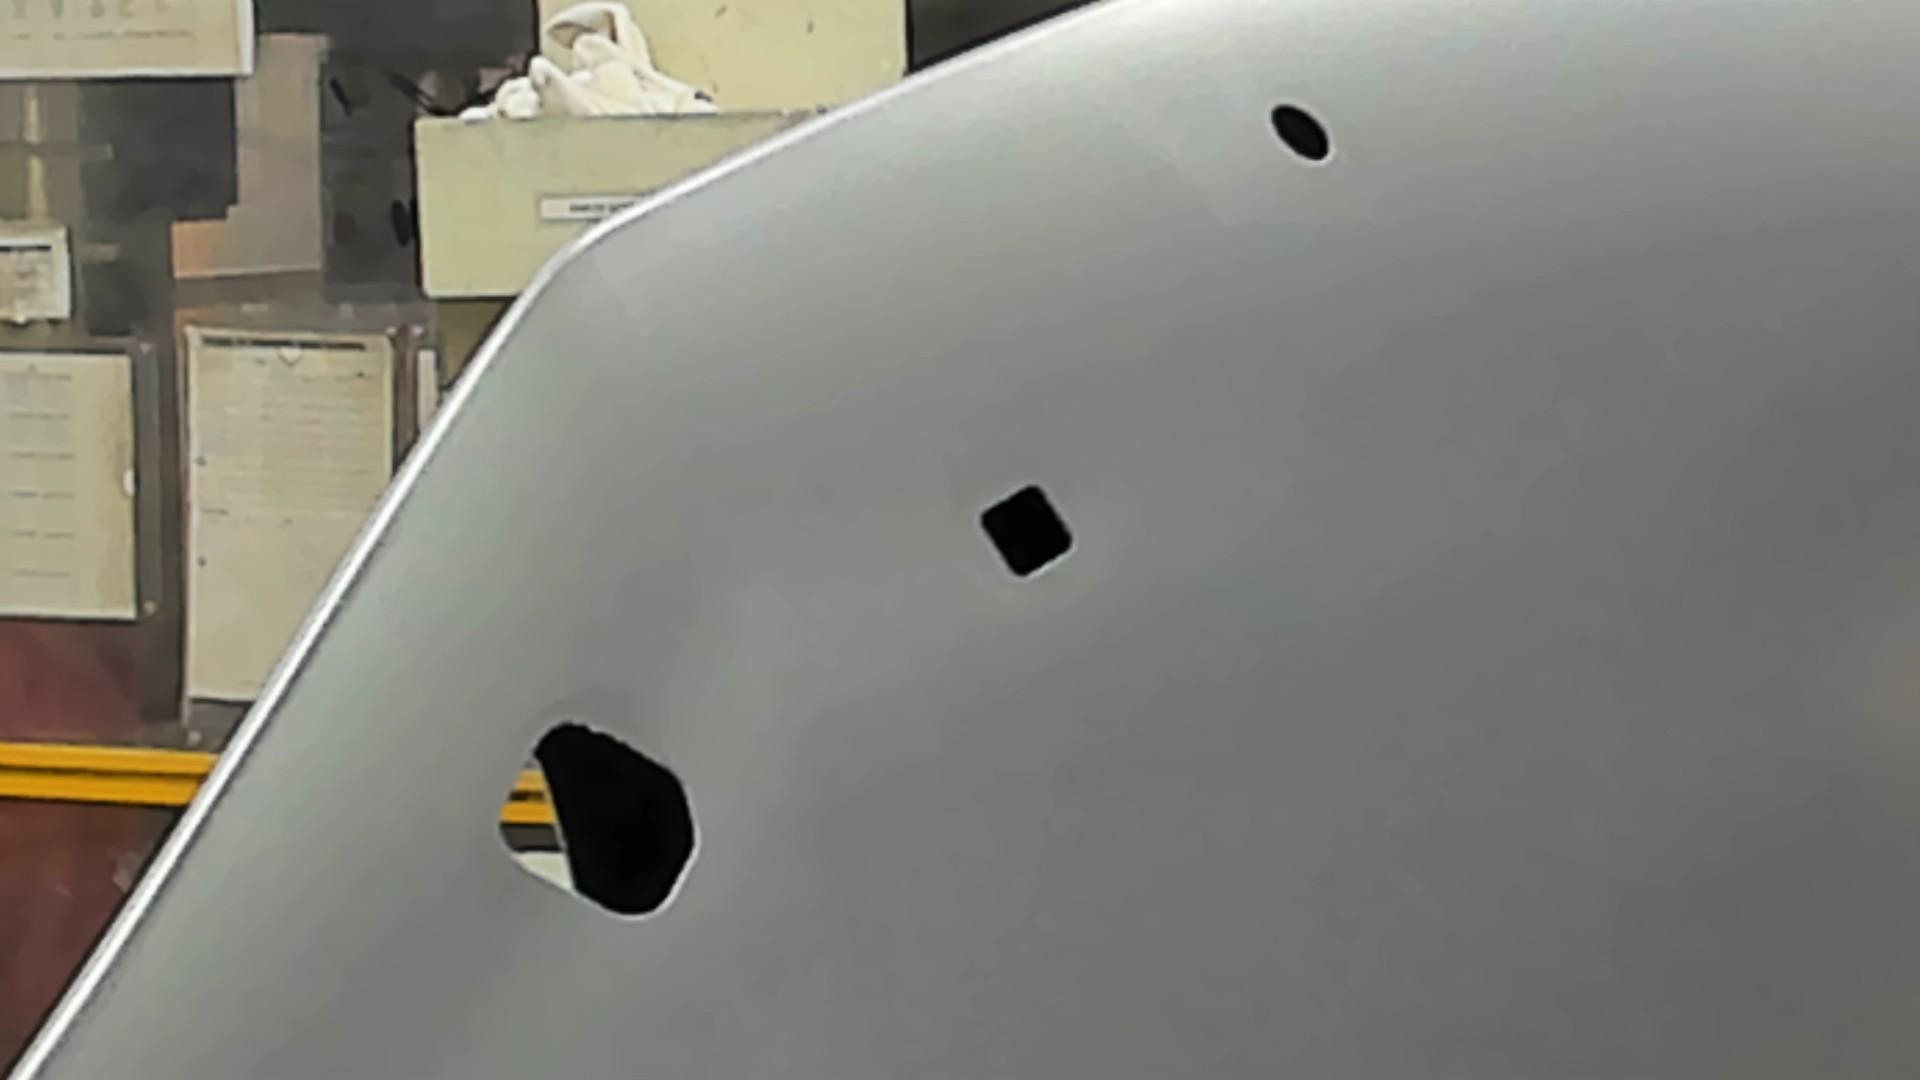chico: (1269, 100, 1332, 164)
grande: (495, 717, 705, 926)
mediano: (976, 483, 1077, 583)
